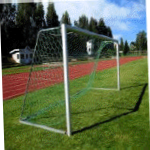goals: (14, 22, 123, 138)
